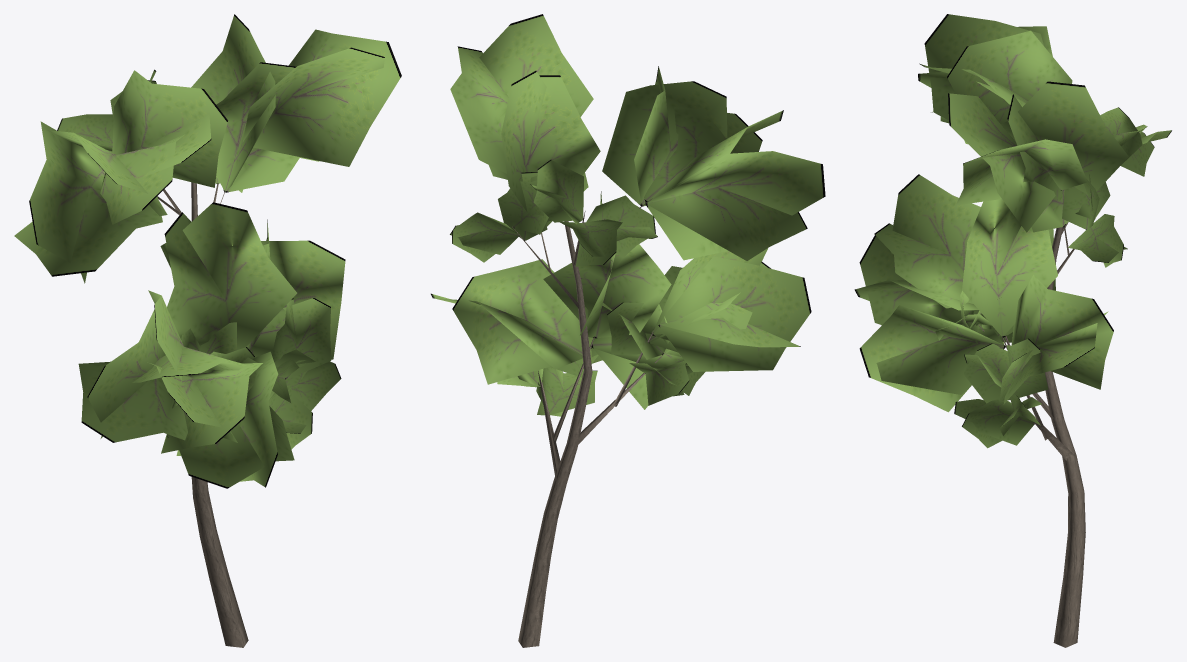
The model's file is tree_Shrub_Maple_LOD0.fbx.
The picture shows the model from 3 angles, left to right: view 1: azimuth 30°, elevation 25°; view 2: azimuth 150°, elevation 25°; view 3: azimuth 270°, elevation 25°; orthographic projection. The views are drawn at different scales.
Parts seen in each view (by area): view 1: Shrub_Maple_LOD0; view 2: Shrub_Maple_LOD0; view 3: Shrub_Maple_LOD0.
Part boxes in pixels (x1,y1,x2,y2): Shrub_Maple_LOD0: (14,14,401,647); Shrub_Maple_LOD0: (431,14,825,647); Shrub_Maple_LOD0: (854,14,1171,647).
Size of the model in its own units: 256 by 406 by 205.
